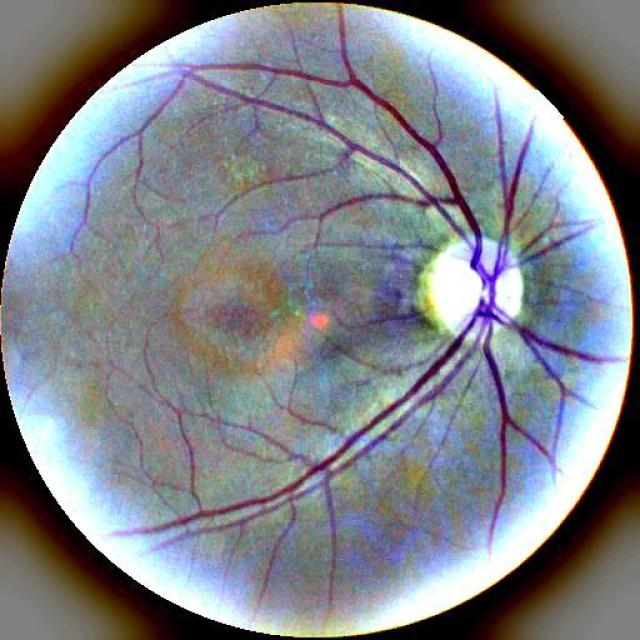Macula: (209, 299, 265, 342)
Nerves: (119, 50, 618, 544)
Optic Disk: (419, 240, 522, 335)
